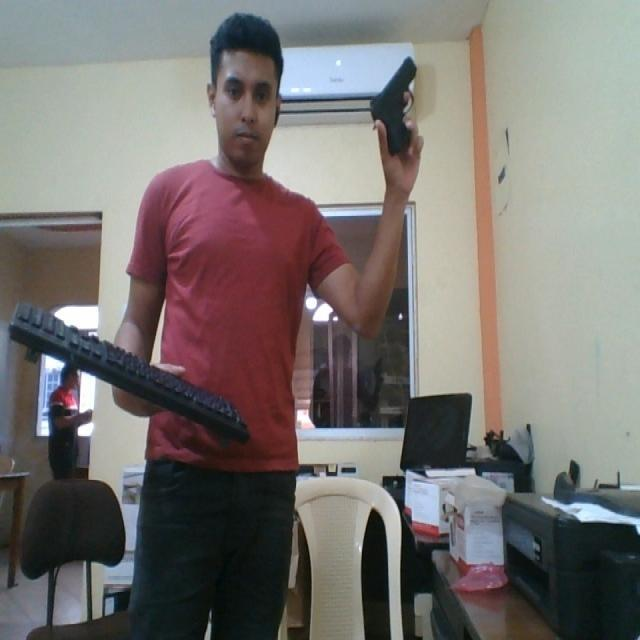weapon: (366, 53, 420, 164)
